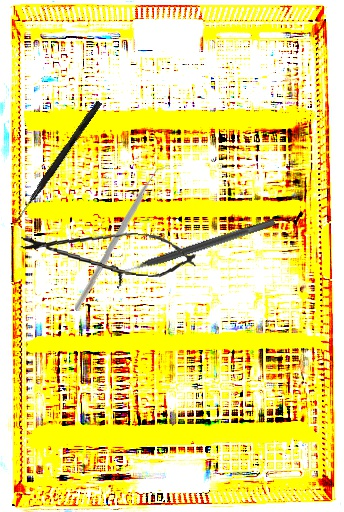Chopper: (70, 165, 176, 311)
Fixation Ring: (109, 209, 279, 290)
Hook Surgical: (13, 99, 103, 225)
Micro Scissor: (18, 223, 199, 281)
